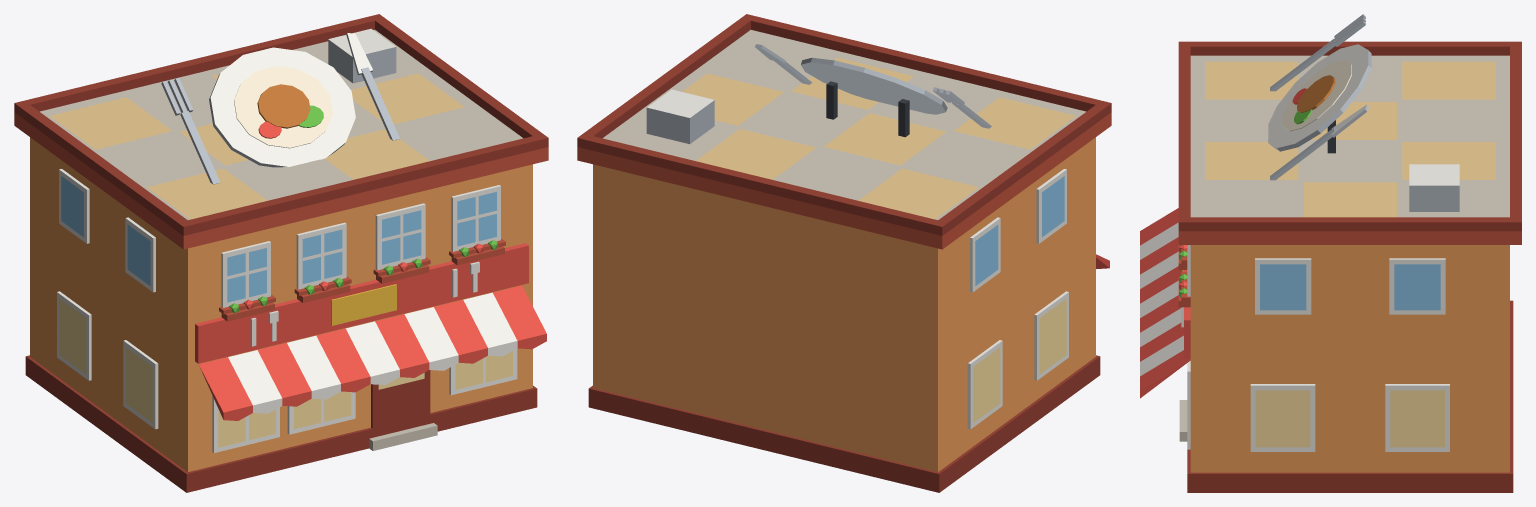
File: B_Lokanta.fbx
3 views of the same model, side by side, from view 1: azimuth 30°, elevation 25°; view 2: azimuth 150°, elevation 25°; view 3: azimuth 270°, elevation 25° (orthographic).
Parts seen in each view (by area): view 1: B_Lokanta; view 2: B_Lokanta; view 3: B_Lokanta.
Boxes of the visible parts, left/top/right/bottom form: B_Lokanta: left=14, top=14, right=548, bottom=492; B_Lokanta: left=577, top=14, right=1111, bottom=492; B_Lokanta: left=1140, top=14, right=1521, bottom=492.
Bounding box in the file's own units: 5.08 × 4.48 × 4.54.
